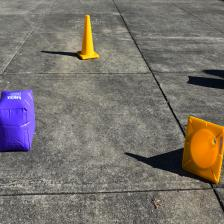cone: (182, 116, 224, 184), (76, 14, 99, 60)
cube: (0, 89, 36, 151)
